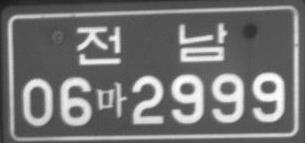0: (21, 76, 55, 127)
2: (131, 74, 165, 126)
6: (58, 75, 92, 127)
9: (251, 70, 287, 124), (170, 72, 205, 125), (210, 72, 245, 124)
마: (96, 80, 127, 118)
전남_D: (76, 22, 228, 64)
